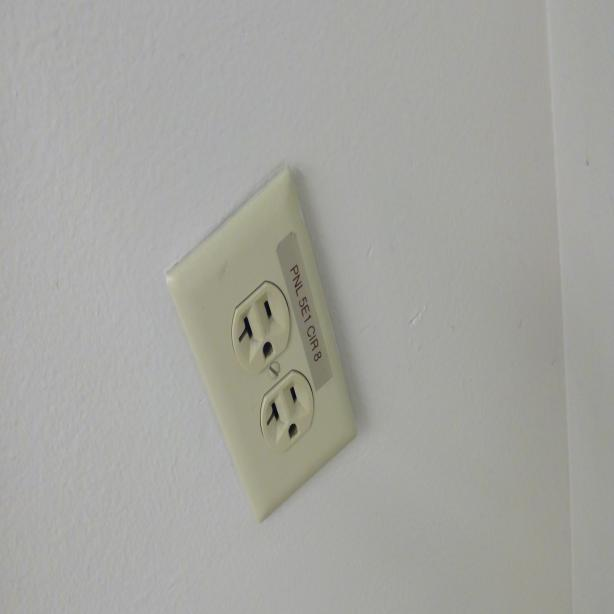typeb: (233, 292, 285, 362), (260, 379, 309, 446)
